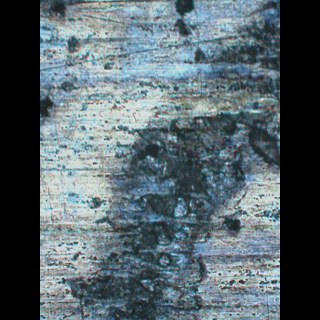d: (73, 4, 279, 320)
